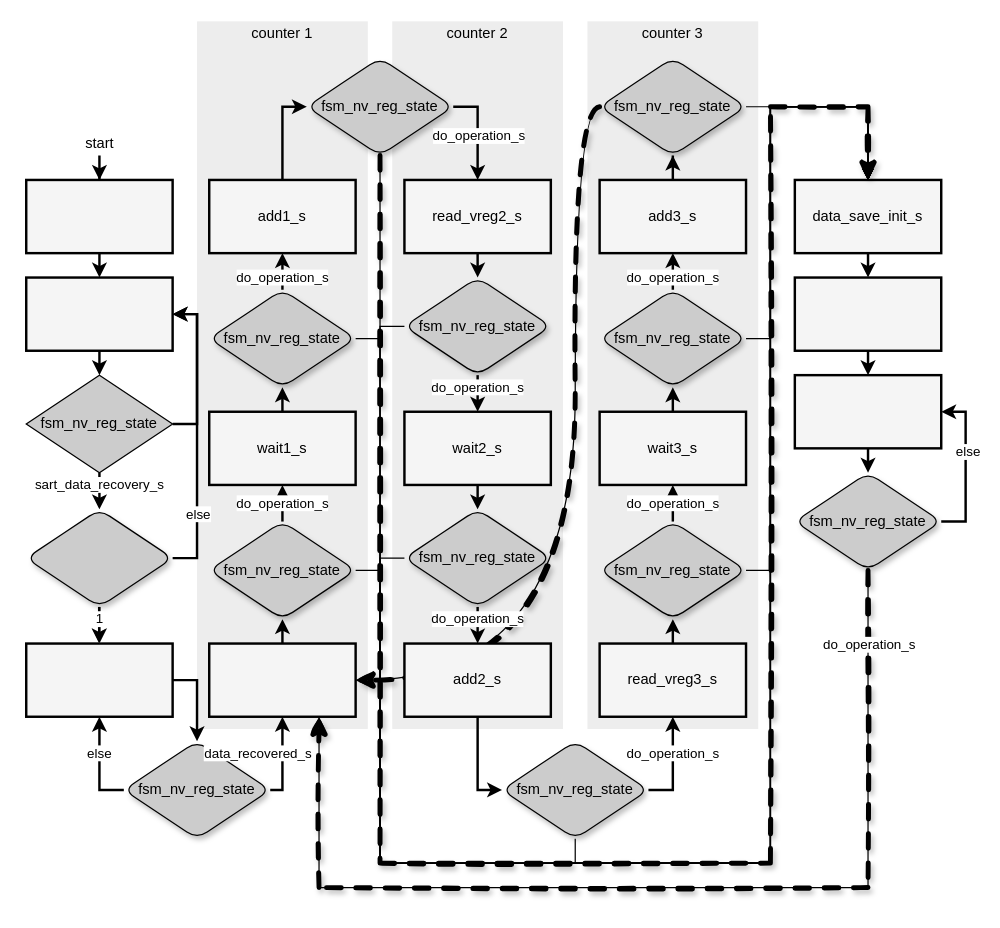
This 1000x928 diagram has some shape labels left out. Here are the shapes that lost their labels. From the top down, the centre of each, then its label:
the point at 98,216: power_off_s
the point at 98,313: init_s
the point at 867,313: data_save_ init_cmplt_s
the point at 867,411: data_save_s
the point at 100,559: data_rec_busy
the point at 98,679: recovery_s
the point at 281,679: read_vreg1_s
